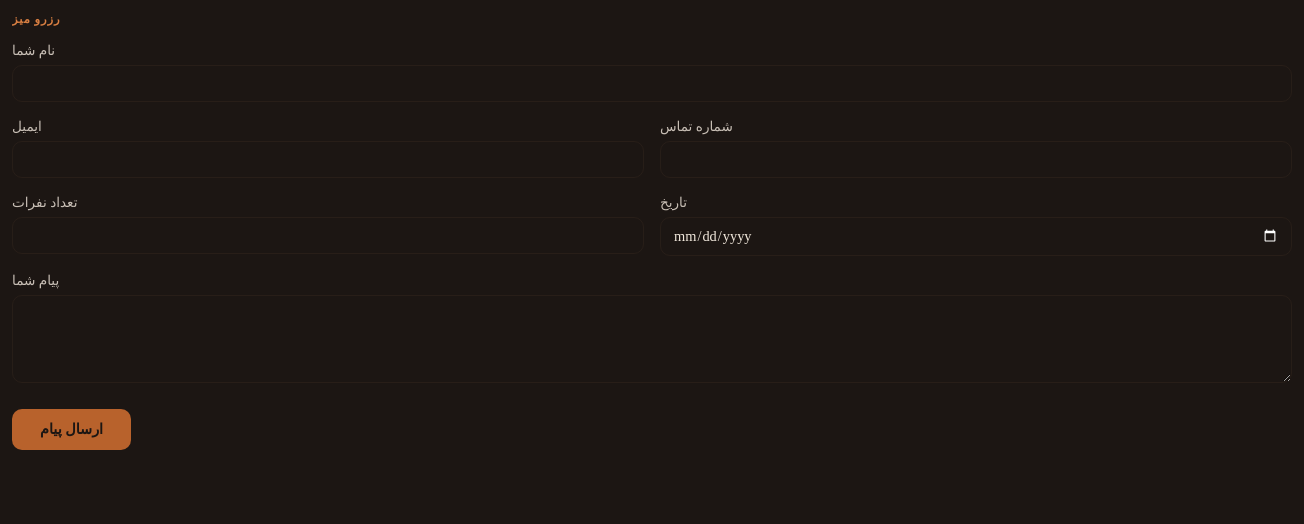
Test: <ContactForm /> › shows validation errors and does not submit when required fields are empty
The width and height of the screenshot is (1304, 524).
Click the button "ارسال پیام". click: [72, 430]
box: [12,409,131,450]
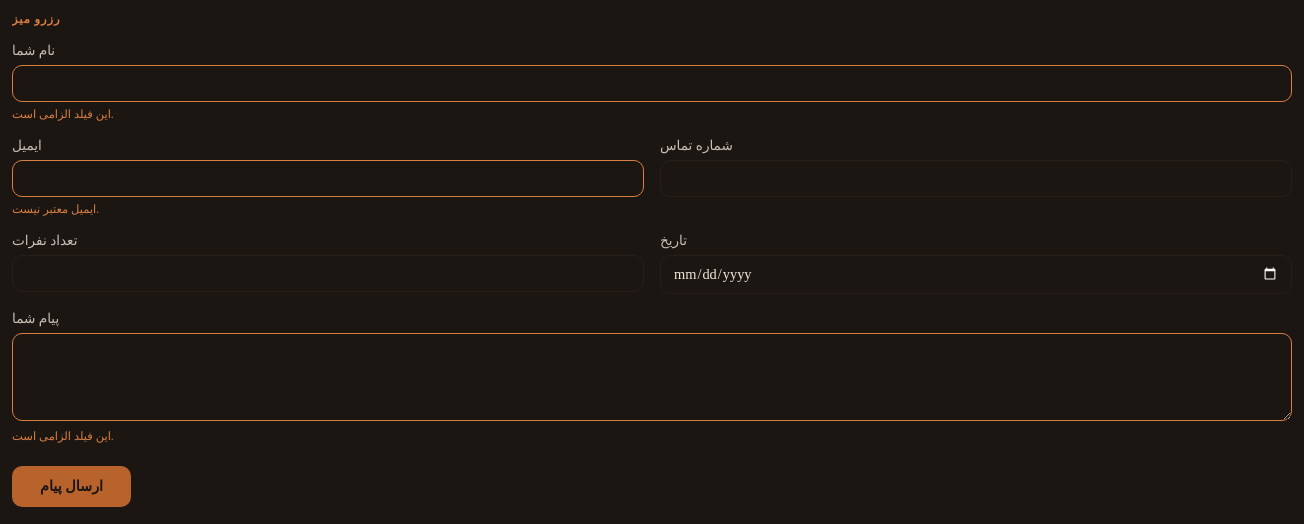
Result: the number of messages is 3 at [12,108,114,120]; [12,203,99,215]; [12,430,114,442]
